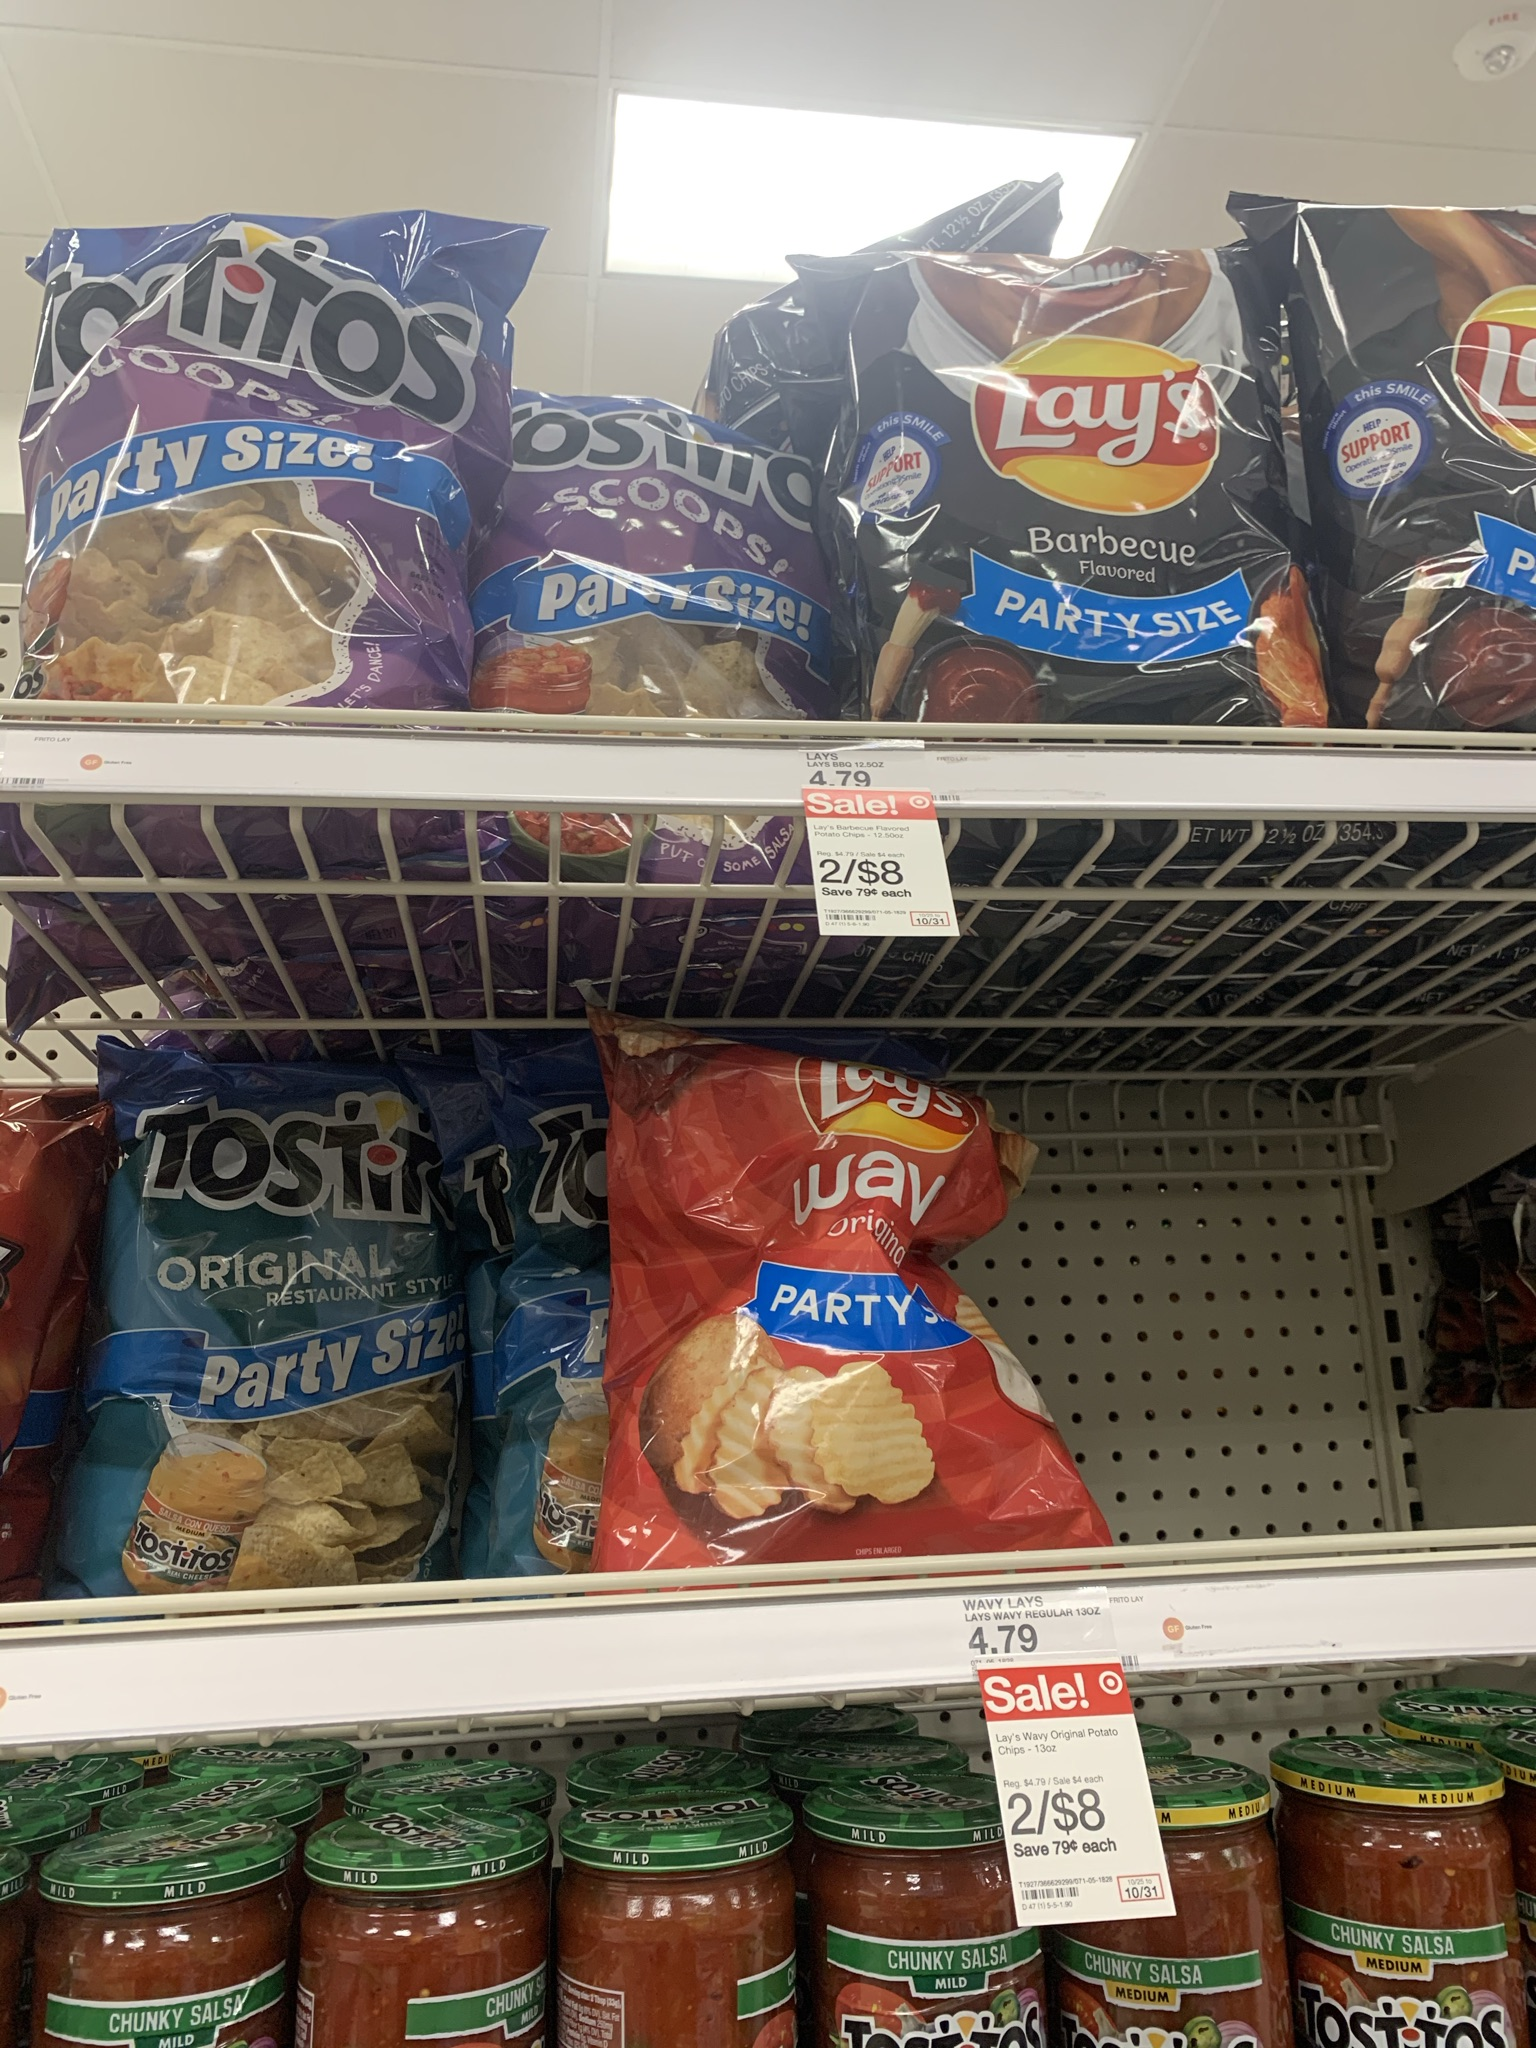lays: (611, 1021, 1097, 1535), (829, 261, 1317, 714), (1262, 214, 1536, 714)
tostitos chips: (74, 239, 470, 724), (118, 1056, 394, 1576), (520, 374, 815, 698), (416, 1066, 592, 1561)
